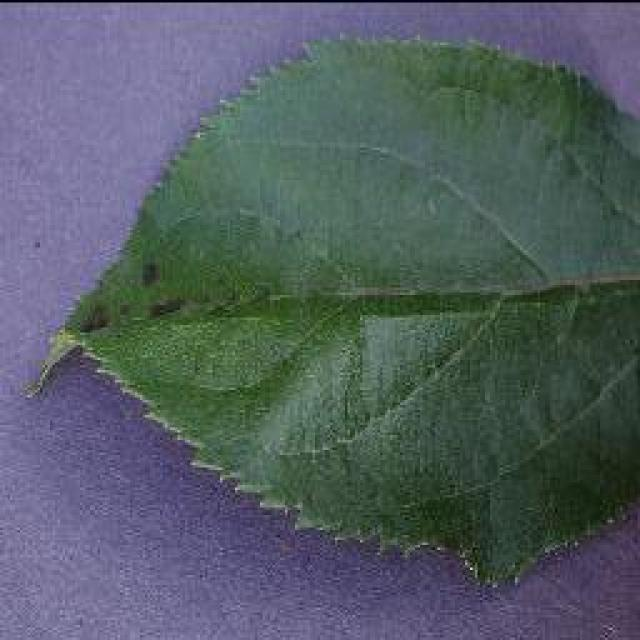apple scab disease: (25, 32, 637, 588)
